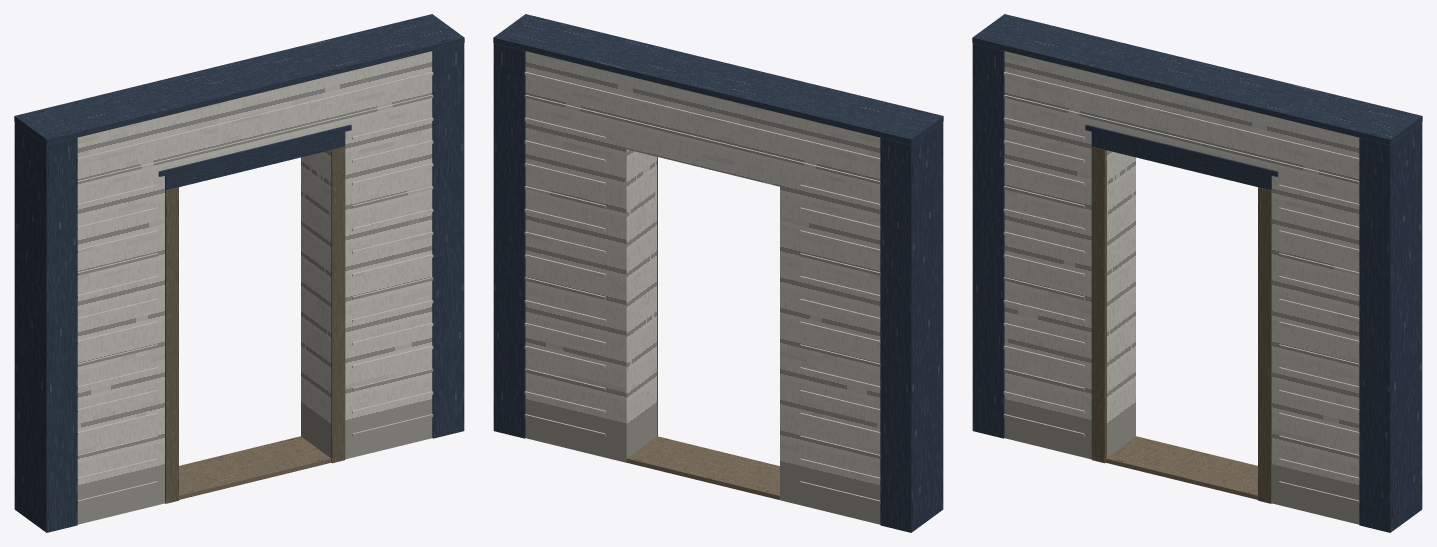
The model's file is house_05_wall_doorway.glb.
The picture shows the model from 3 angles, left to right: view 1: azimuth 30°, elevation 25°; view 2: azimuth 150°, elevation 25°; view 3: azimuth 330°, elevation 25°; orthographic projection.
Parts seen in each view (by area): view 1: house_05_wall_doorway; view 2: house_05_wall_doorway; view 3: house_05_wall_doorway.
Part boxes in pixels (<box>): house_05_wall_doorway: <box>14,14,464,532</box>; house_05_wall_doorway: <box>493,14,943,532</box>; house_05_wall_doorway: <box>972,14,1422,532</box>.
Size of the model in its own units: 3 by 2.7 by 0.4.
4 materials, 4 textured.
